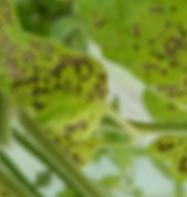Tomato leaf bacterial spot: (0, 4, 136, 159), (45, 0, 187, 143)
